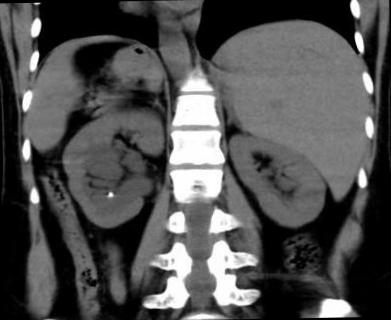Tas_Var: (106, 191, 114, 199)
